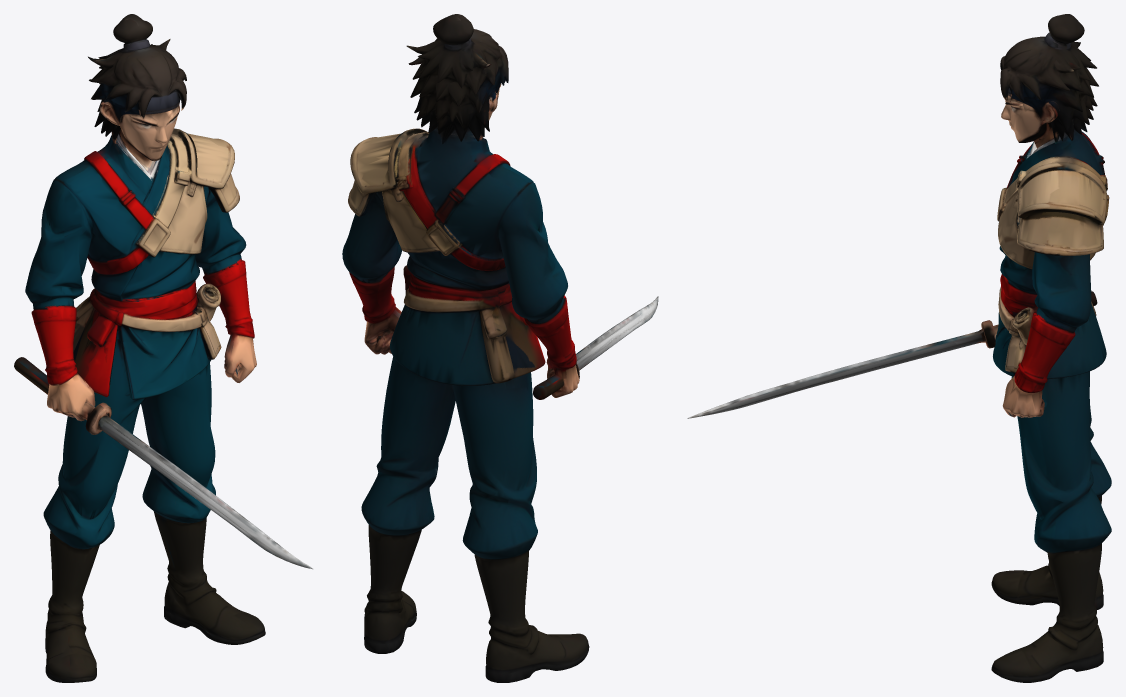
The model's file is shiqian_ai.glb.
3 views of the same model, side by side, from view 1: azimuth 30°, elevation 25°; view 2: azimuth 150°, elevation 25°; view 3: azimuth 270°, elevation 25° (orthographic). The views are drawn at different scales.
Parts seen in each view (by area): view 1: node_0; view 2: node_0; view 3: node_0.
Boxes of the visible parts, <box> form: node_0: <box>14,14,313,682</box>; node_0: <box>342,14,658,682</box>; node_0: <box>687,14,1111,682</box>.
Bounding box in the file's own units: 0.3612 × 1.01 × 0.6309.
Materials: 1 (1 with a texture image).
